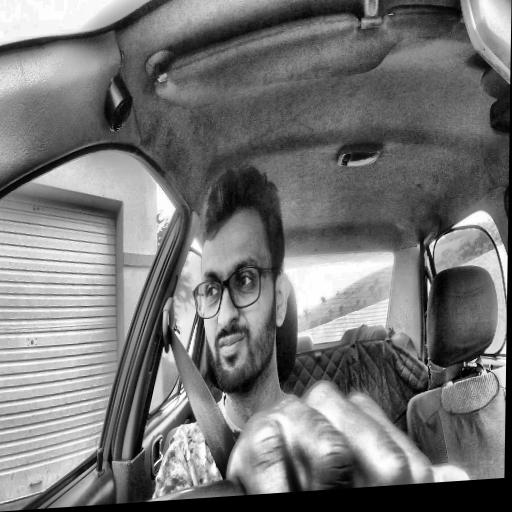awake: (189, 162, 293, 401)
